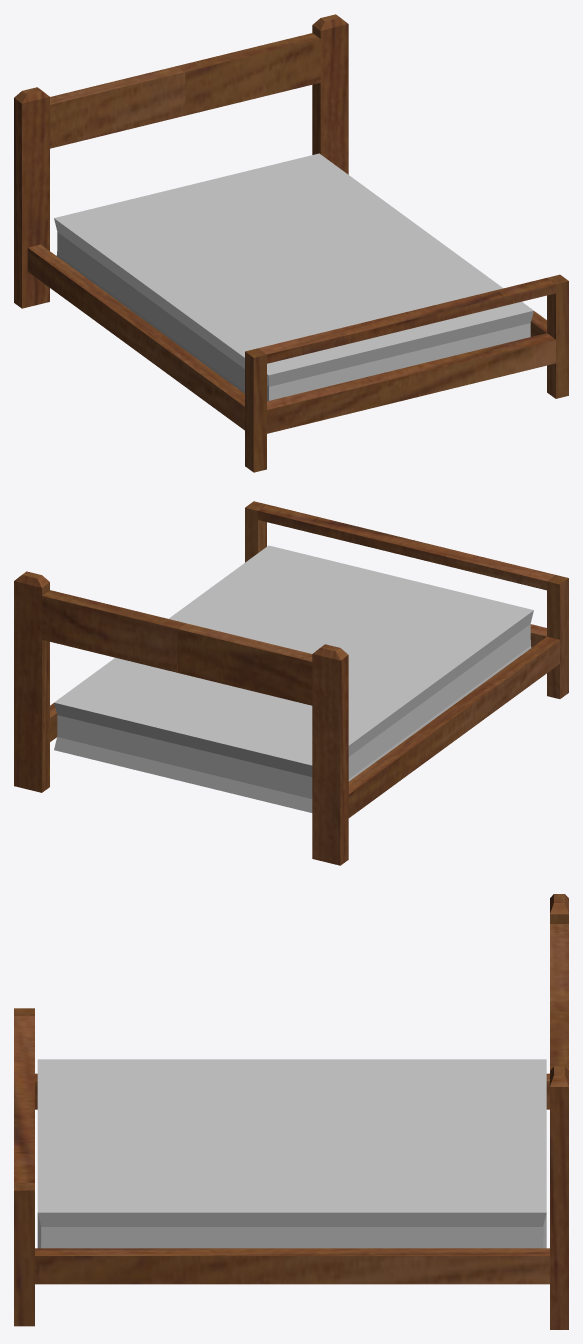
The model's file is cama.fbx.
The picture shows the model from 3 angles, top to bottom: view 1: azimuth 30°, elevation 25°; view 2: azimuth 150°, elevation 25°; view 3: azimuth 270°, elevation 25°; orthographic projection. The views are drawn at different scales.
Parts seen in each view (by area): view 1: CAMA; view 2: CAMA; view 3: CAMA.
Boxes of the visible parts, box(x1,y1,x2,y2) form: CAMA: box(14, 14, 568, 472); CAMA: box(14, 501, 568, 865); CAMA: box(14, 894, 568, 1329).
Bounding box in the file's own units: 140 × 86.63 × 174.
